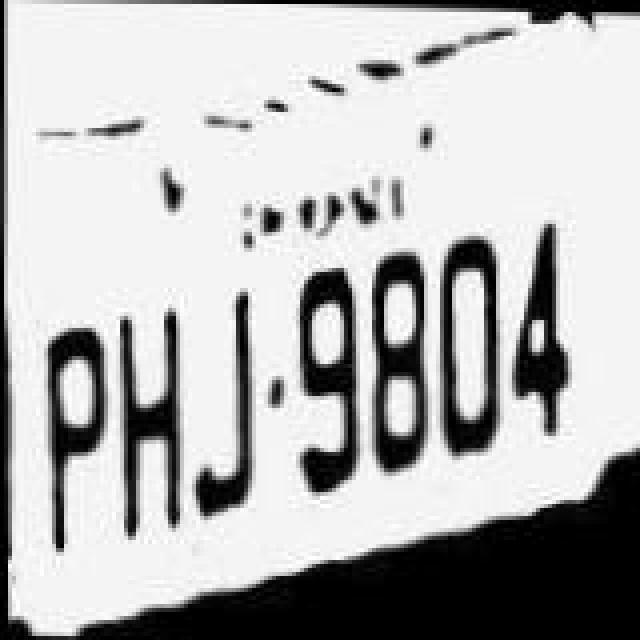4: (504, 206, 584, 470)
8: (358, 236, 434, 512)
9: (288, 250, 364, 518)
H: (104, 290, 188, 546)
J: (186, 272, 266, 536)
O: (432, 224, 512, 488)
P: (30, 290, 118, 558)
